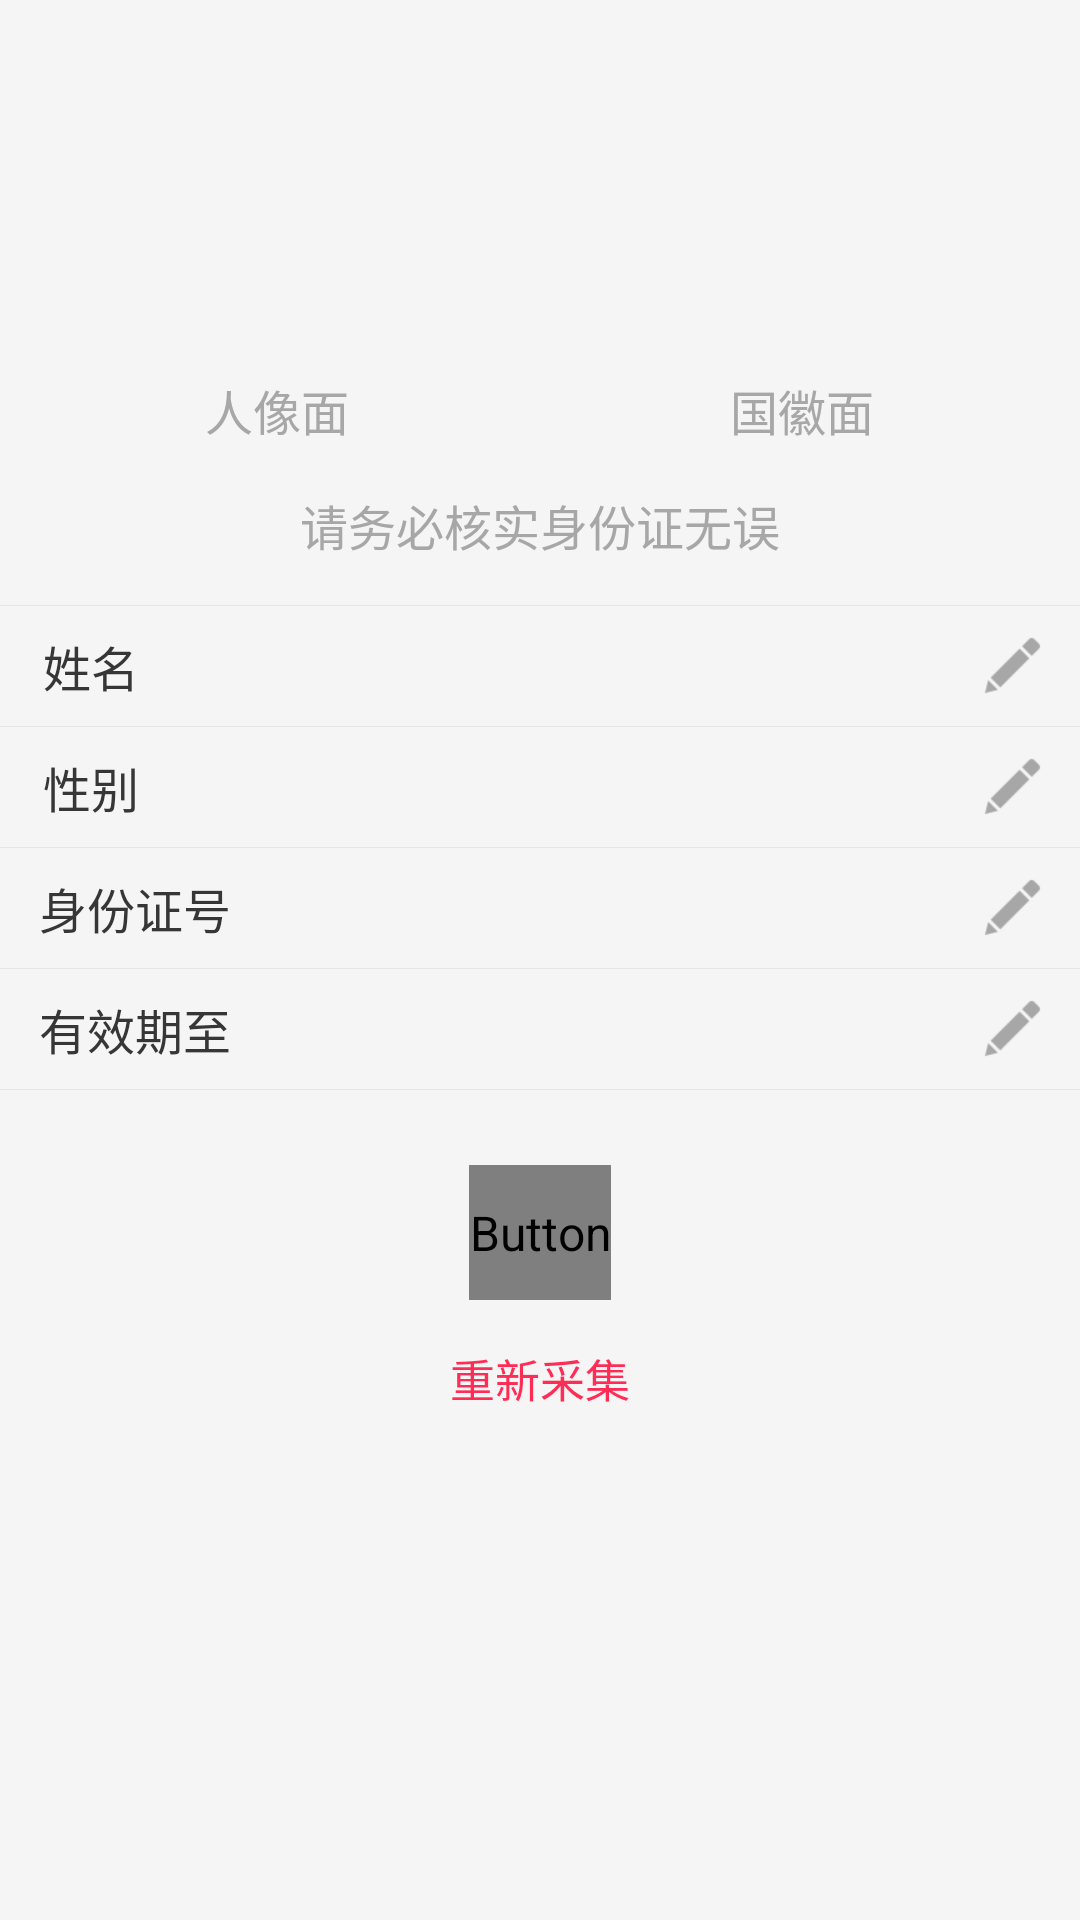

Icons on this 1080px x 1920px Android screen, each with its box as {"left": x1, "top": y1, "right": x2, "bottom": y2}:
ocr id pen: {"left": 985, "top": 638, "right": 1040, "bottom": 693}, {"left": 985, "top": 759, "right": 1040, "bottom": 814}, {"left": 985, "top": 880, "right": 1040, "bottom": 935}, {"left": 985, "top": 1001, "right": 1040, "bottom": 1056}
